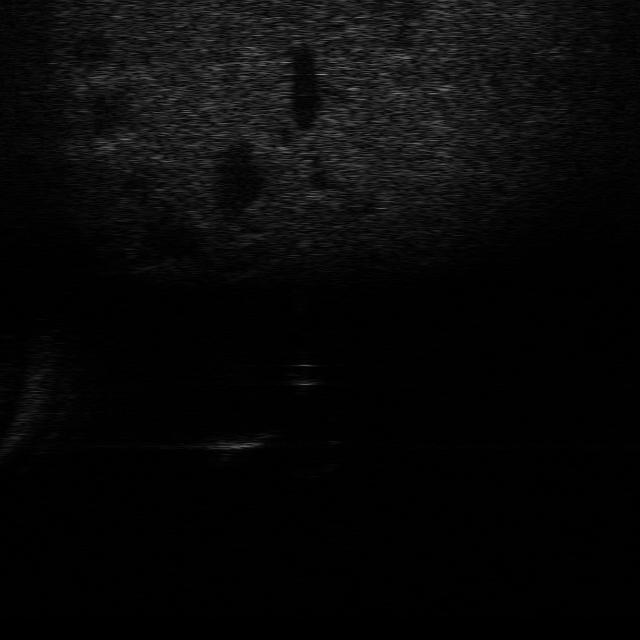ball: (274, 356, 332, 392)
square cage: (186, 426, 285, 471)
tyre: (290, 436, 350, 478)
